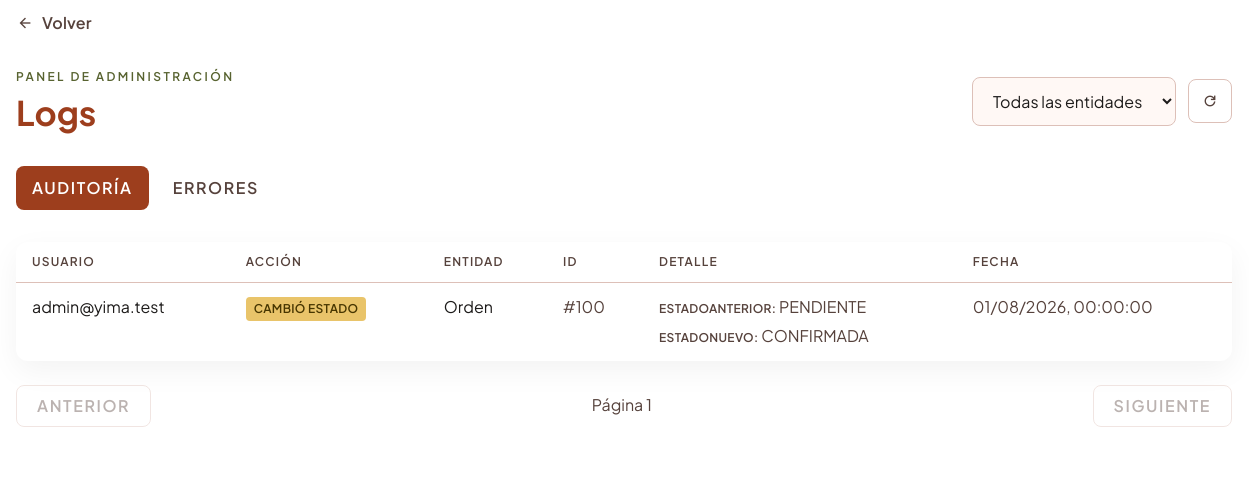
Test: AdminLogs › el stack trace arranca colapsado y se expande al hacer click
Expected: the text "admin@yima.test" is shown, [16,283,230,361]
Click the button "Errores" at (216, 188), box [157,166,275,210]
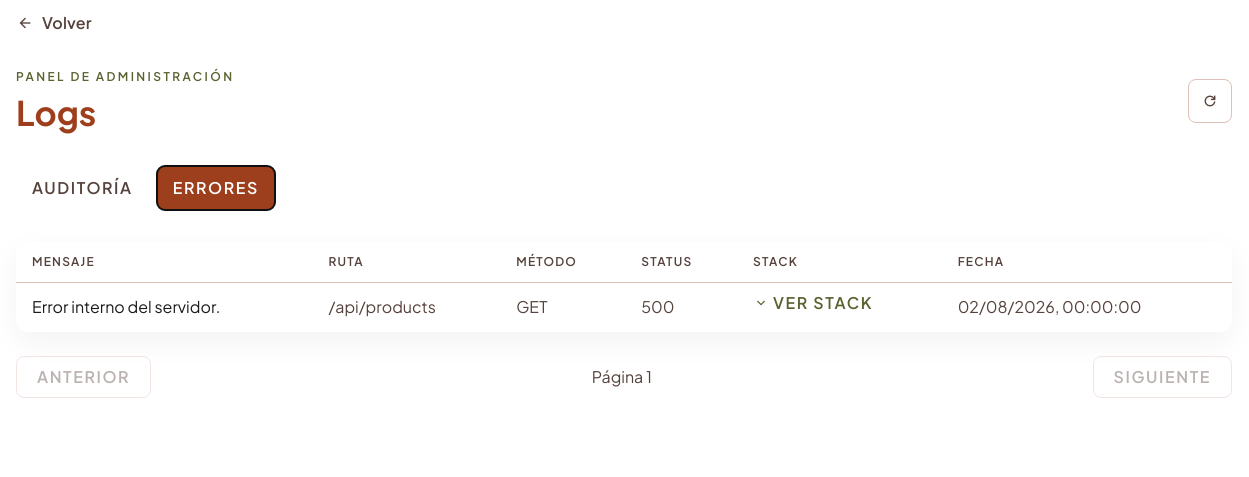
Expected: the text "algo explotó" is not shown
Now the text "Error interno del servidor." is shown, box [16,283,312,332]
Click the button "Ver stack" at (813, 303), box [753,295,873,311]
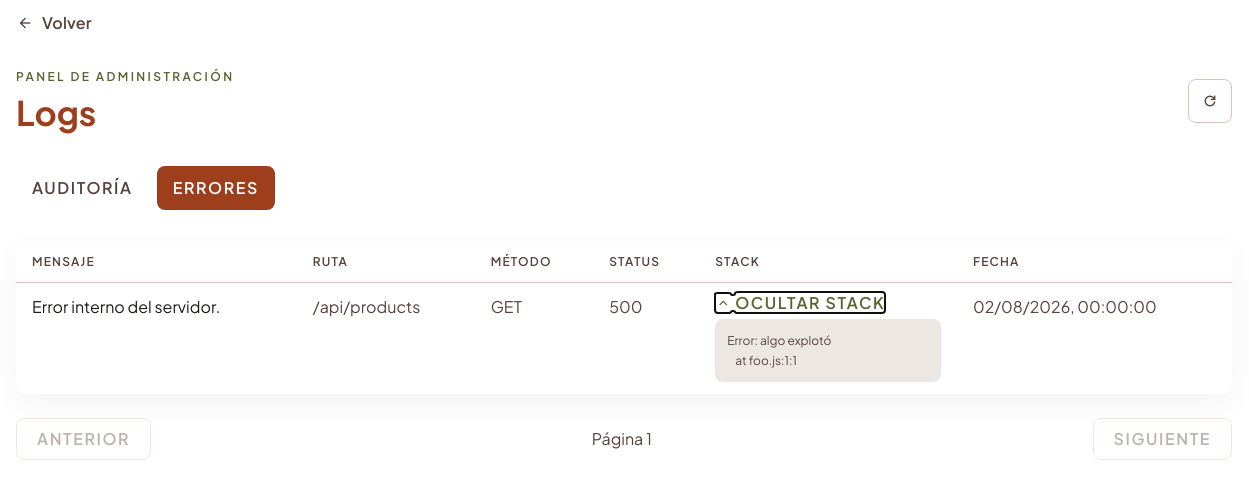
Now the text "Error: algo explotó at foo.js:1:1" is shown, box [715,319,941,382]
